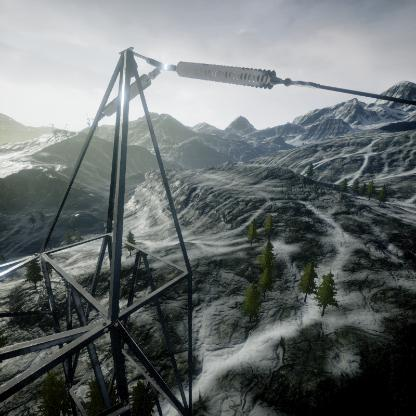insulator: (166, 59, 288, 92), (102, 72, 152, 118)
